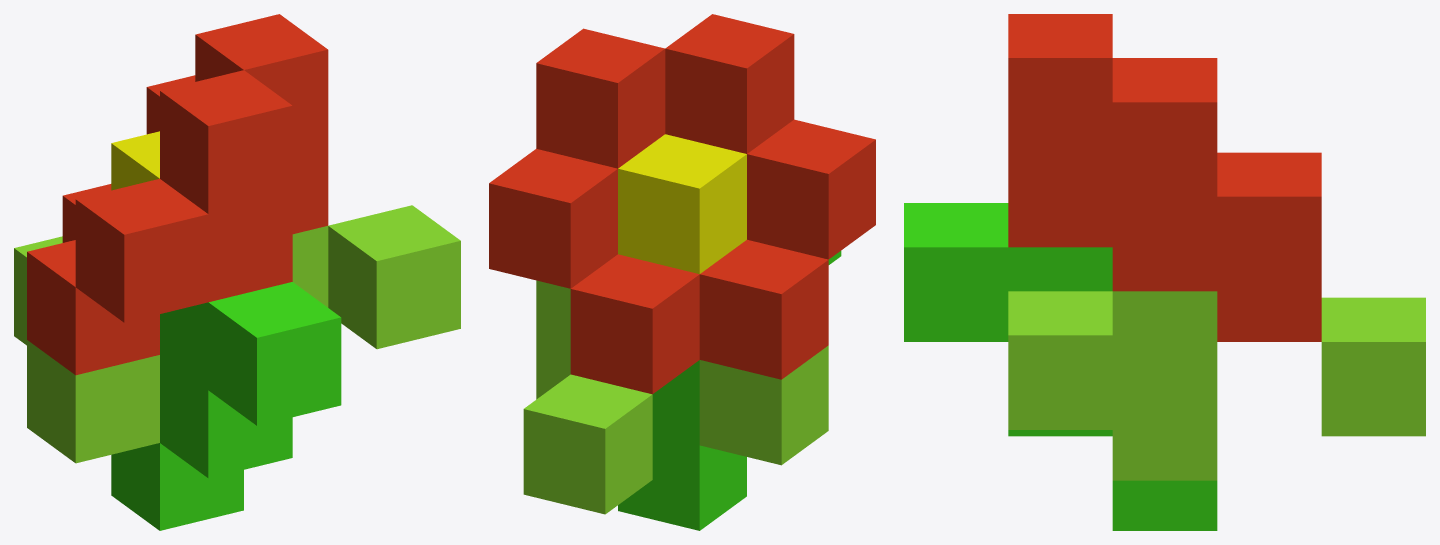
The model's file is tile-54.obj.
The picture shows the model from 3 angles, left to right: view 1: azimuth 30°, elevation 25°; view 2: azimuth 150°, elevation 25°; view 3: azimuth 270°, elevation 25°; orthographic projection. The views are drawn at different scales.
Bounding box in the file's own units: 0.4 × 0.5 × 0.5.
Materials: 1 (1 with a texture image).
